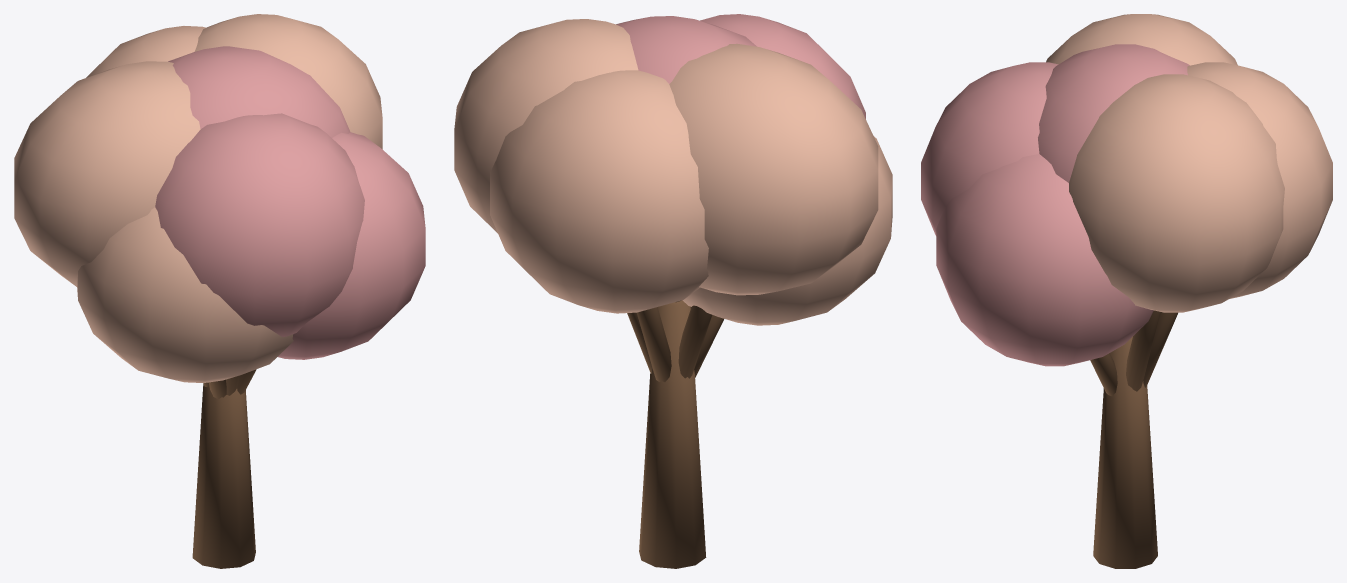
The model's file is blossom.glb.
The picture shows the model from 3 angles, left to right: view 1: azimuth 30°, elevation 25°; view 2: azimuth 150°, elevation 25°; view 3: azimuth 270°, elevation 25°; orthographic projection. The views are drawn at different scales.
Parts seen in each view (by area): view 1: blossom_World_Mesh; view 2: blossom_World_Mesh; view 3: blossom_World_Mesh.
Boxes of the visible parts, bbox=[...] form: blossom_World_Mesh: bbox=[14, 14, 425, 568]; blossom_World_Mesh: bbox=[454, 14, 892, 568]; blossom_World_Mesh: bbox=[921, 14, 1332, 568].
Bounding box in the file's own units: 2.53 × 3.39 × 2.54.
